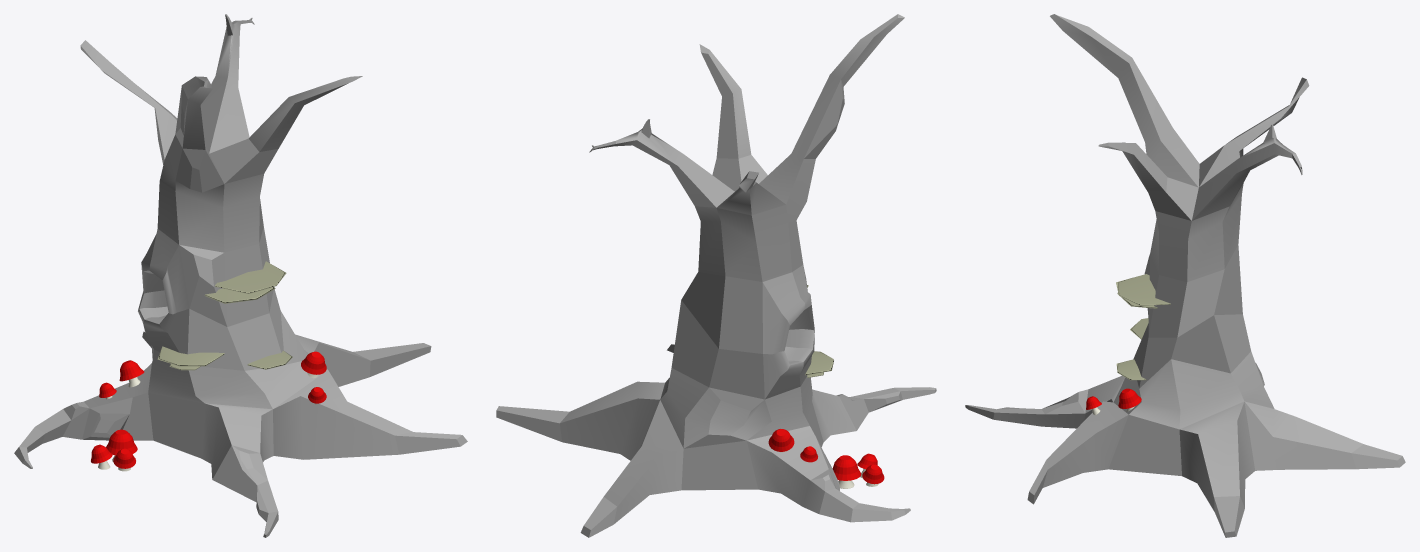
Rendered from tree.fbx.
3 renders of one model, left to right at view 1: azimuth 30°, elevation 25°; view 2: azimuth 150°, elevation 25°; view 3: azimuth 270°, elevation 25°, orthographic. The views are drawn at different scales.
Visible parts, largest first — view 1: tree, treeMush_05, treeMush_04, treeMush_02, Mush_01; view 2: tree, Mush_01; view 3: tree, treeMush_05.
Part boxes in pixels (x1,y1,x2,y2): tree: (14, 14, 467, 537); treeMush_05: (215, 261, 286, 293); treeMush_04: (157, 346, 224, 366); treeMush_02: (204, 287, 275, 303); Mush_01: (106, 429, 137, 461); tree: (496, 14, 936, 537); Mush_01: (832, 455, 861, 488); tree: (965, 14, 1405, 537); treeMush_05: (1116, 274, 1170, 305).
Size of the model in its own units: 10.9 by 10.79 by 10.98.
